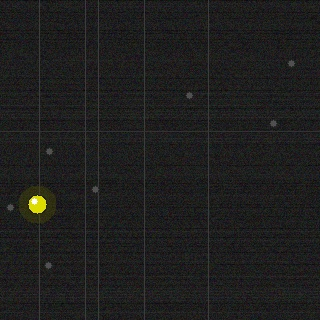yellow_warning: (26, 193, 48, 215)
